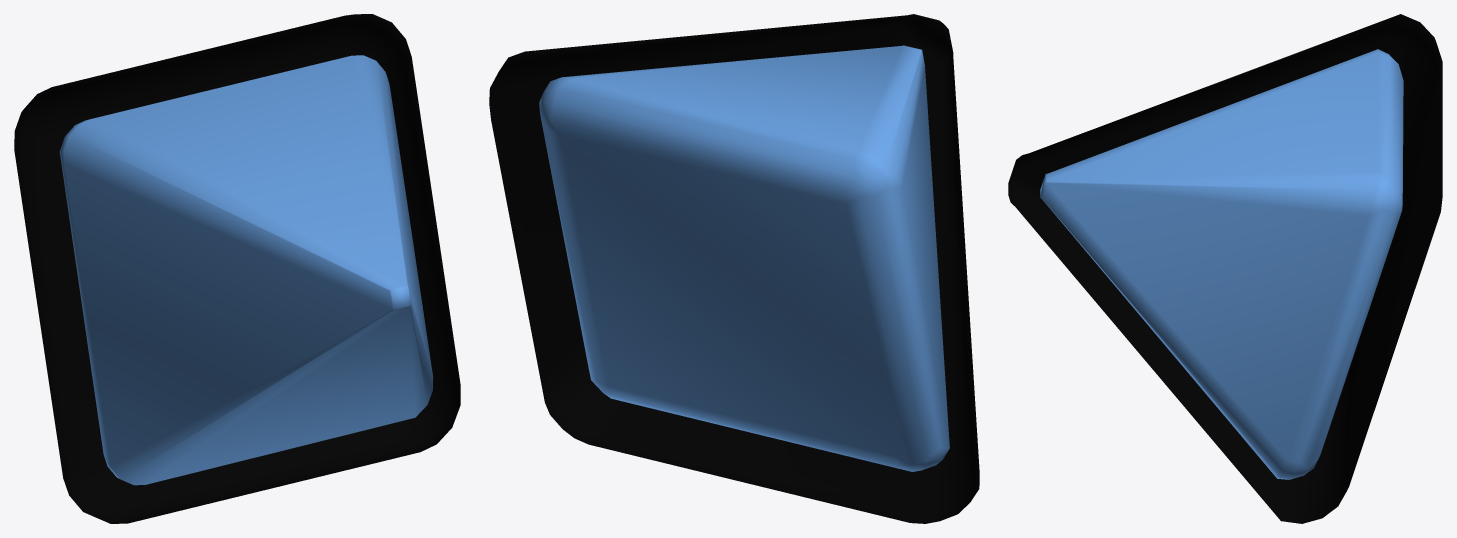
Rendered from enemy.fbx.
3 views of the same model, side by side, from view 1: azimuth 30°, elevation 25°; view 2: azimuth 150°, elevation 25°; view 3: azimuth 270°, elevation 25° (orthographic). The views are drawn at different scales.
Visible parts, largest first — view 1: Enemy; view 2: Enemy; view 3: Enemy.
Part boxes in pixels (x1,y1,x2,y2): Enemy: [14, 14, 460, 523]; Enemy: [489, 14, 979, 523]; Enemy: [1008, 14, 1442, 523].
Bounding box in the file's own units: 2.39 × 2.31 × 2.48.
